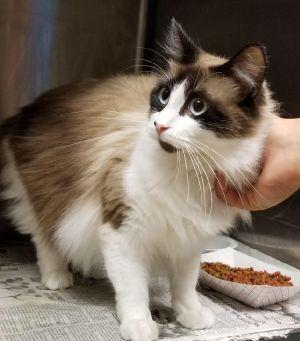ragdoll: (138, 18, 281, 173)
